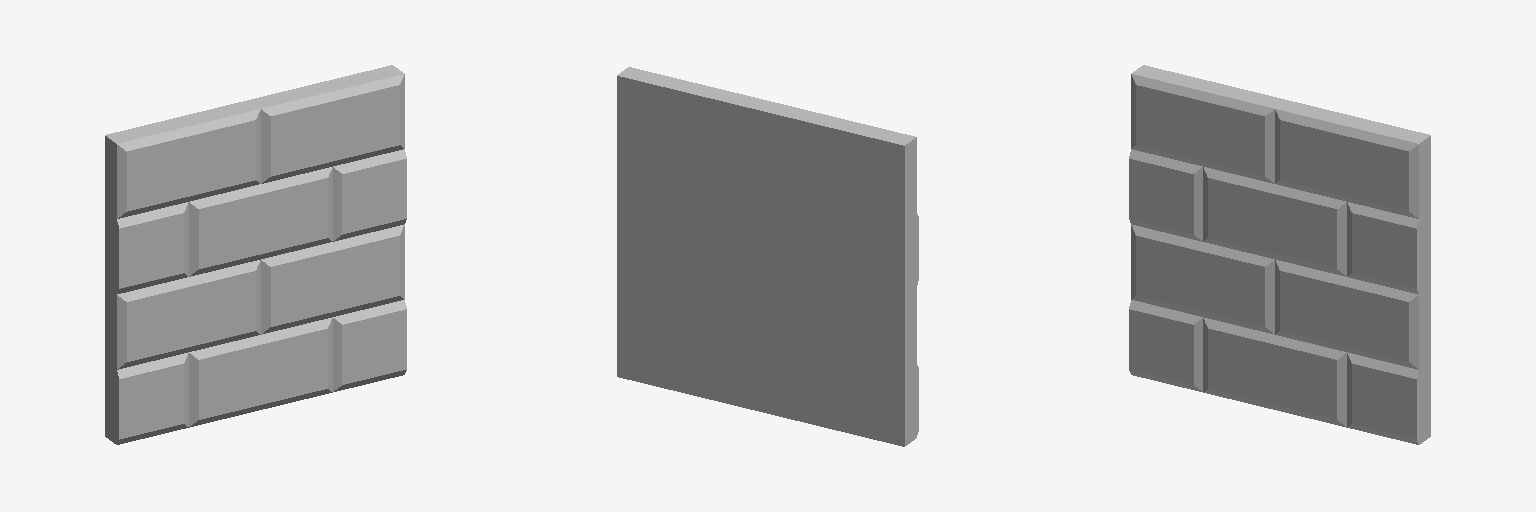
Rendered from 1m_Wall.obj.
3 renders of one model, left to right at view 1: azimuth 30°, elevation 25°; view 2: azimuth 150°, elevation 25°; view 3: azimuth 330°, elevation 25°, orthographic.
Visible parts, largest first — view 1: Cube.002; view 2: Cube.002; view 3: Cube.002.
Boxes of the visible parts, <box> form: Cube.002: <box>105,65,406,444</box>; Cube.002: <box>617,67,918,446</box>; Cube.002: <box>1129,65,1430,444</box>.
Bounding box in the file's own units: 1 × 1 × 0.0881.